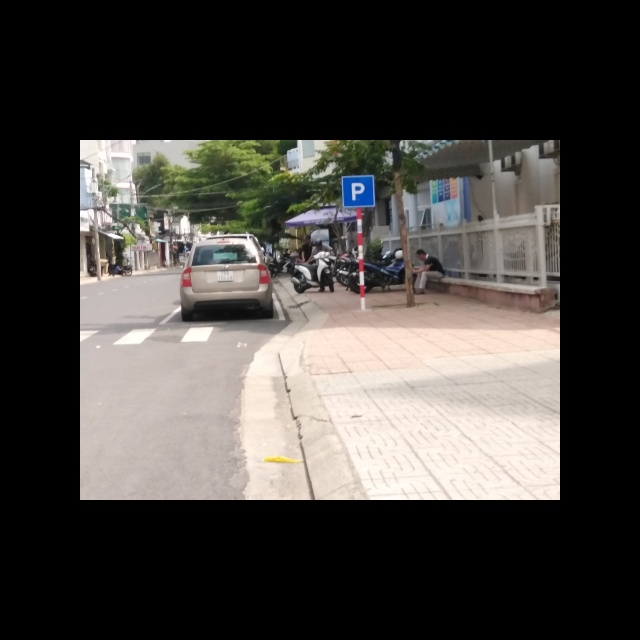Nơi đỗ xe: (341, 175, 375, 207)
